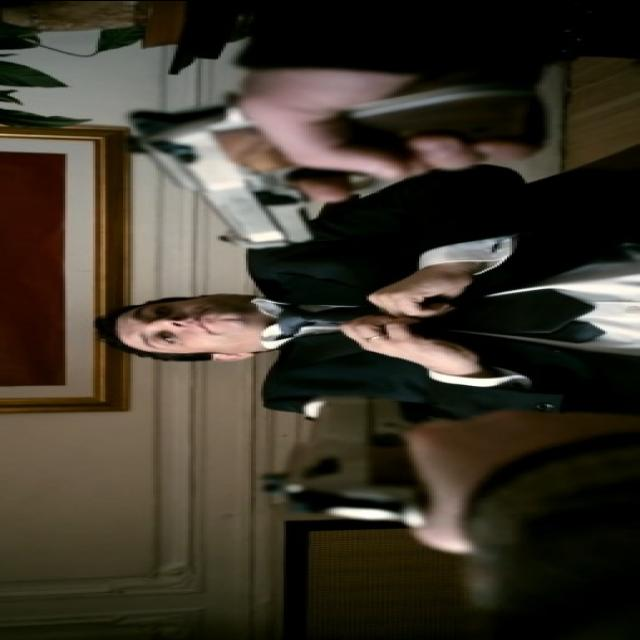weapons: (107, 82, 538, 255), (245, 374, 562, 536)
